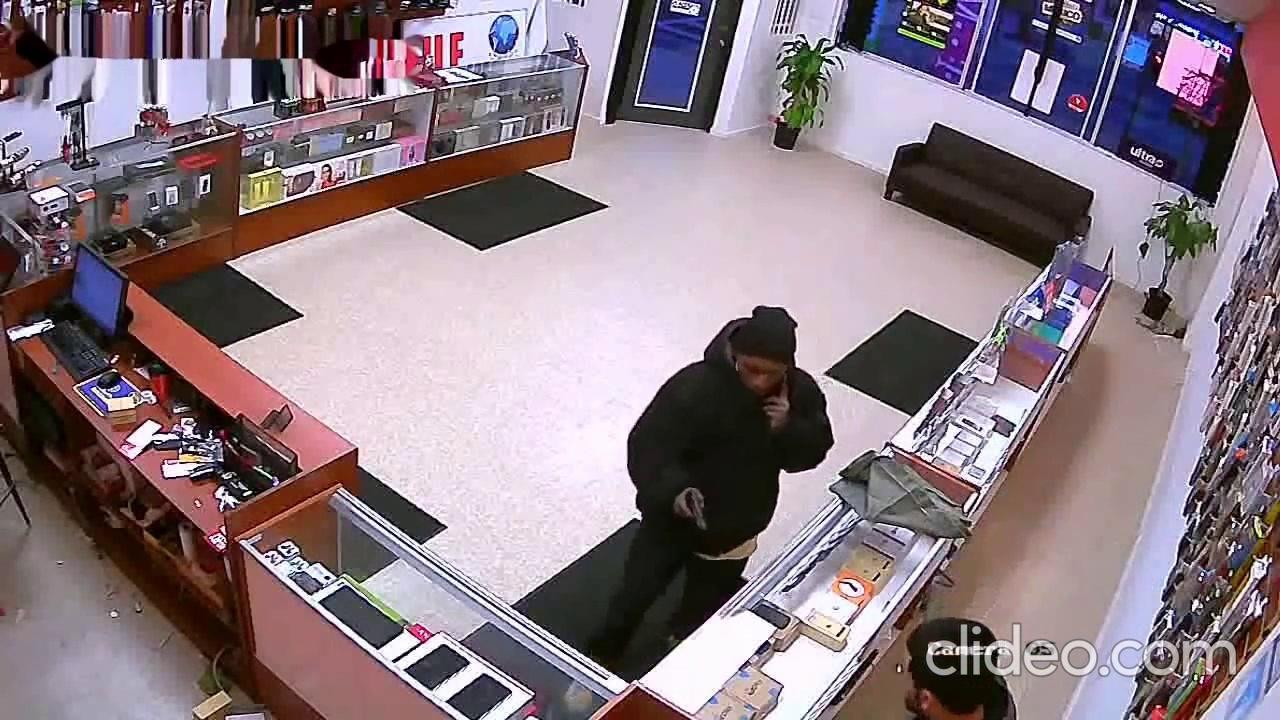person: (586, 304, 835, 666)
pistol: (685, 488, 711, 534)
